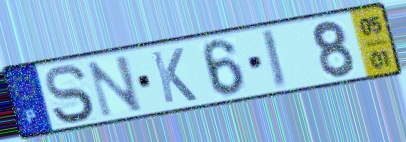6: (200, 36, 249, 99)
8: (311, 18, 358, 80)
I: (258, 26, 290, 91)
K: (148, 46, 200, 106)
N: (84, 53, 146, 120)
S: (42, 62, 97, 126)
